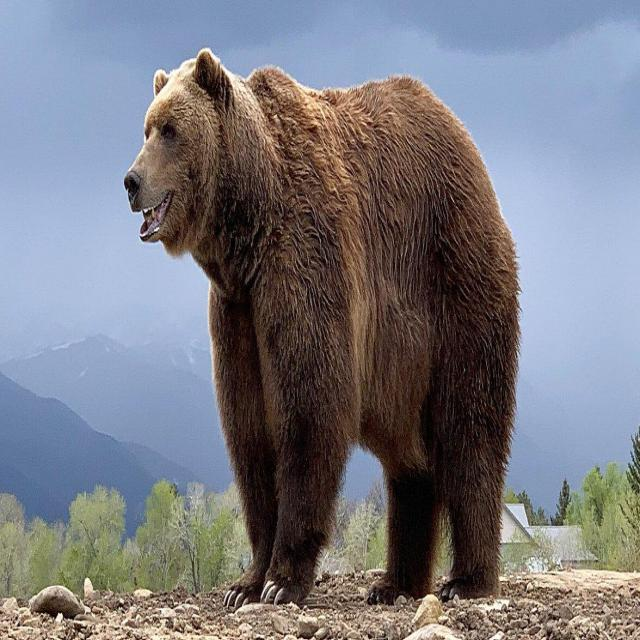Bear: (122, 49, 521, 611)
